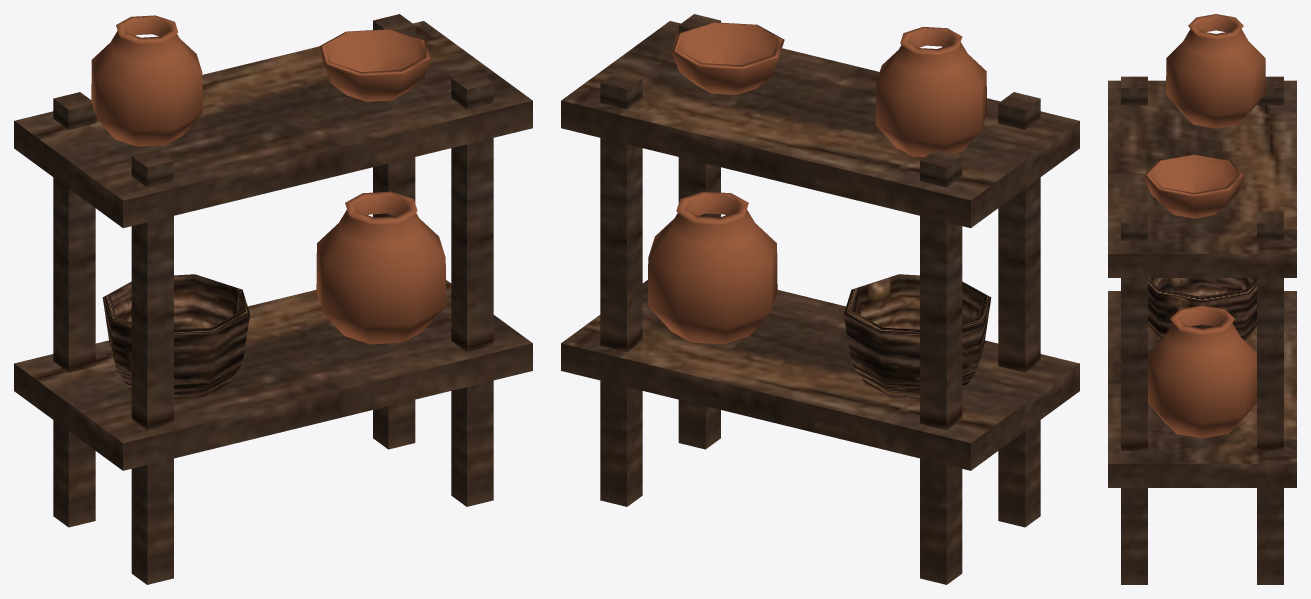
Rendered from periodPantry.glb.
3 views of the same model, side by side, from view 1: azimuth 30°, elevation 25°; view 2: azimuth 150°, elevation 25°; view 3: azimuth 270°, elevation 25° (orthographic). The views are drawn at different scales.
Visible parts, largest first — view 1: part_2, part_0, part_1; view 2: part_2, part_0, part_1; view 3: part_2, part_0, part_1.
Boxes of the visible parts, x1,y1,x2,y2 form: part_2: (14,14,532,584); part_0: (91,15,446,344); part_1: (102,274,249,398); part_2: (561,14,1079,584); part_0: (647,22,986,344); part_1: (844,274,991,398); part_2: (1108,76,1296,584); part_0: (1144,14,1265,438); part_1: (1148,278,1256,340).
Bounding box in the file's own units: 0.76 × 0.892 × 0.35.
Materials: 3 (2 with a texture image).
